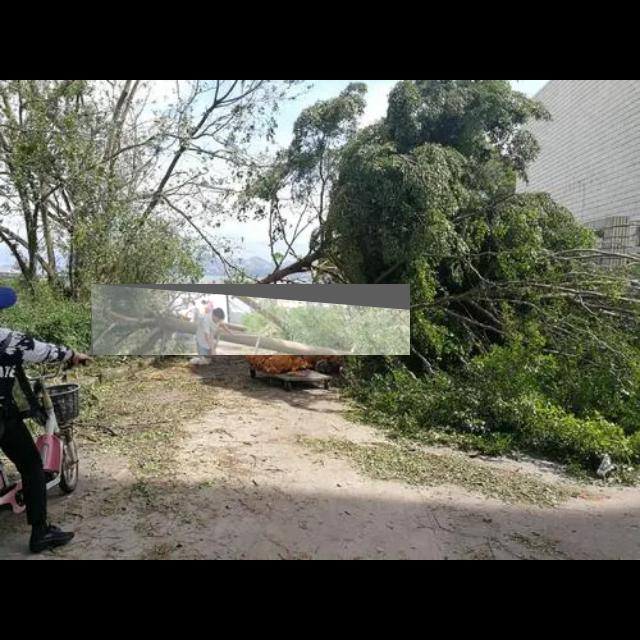Fallen Tree: (91, 284, 411, 356)
